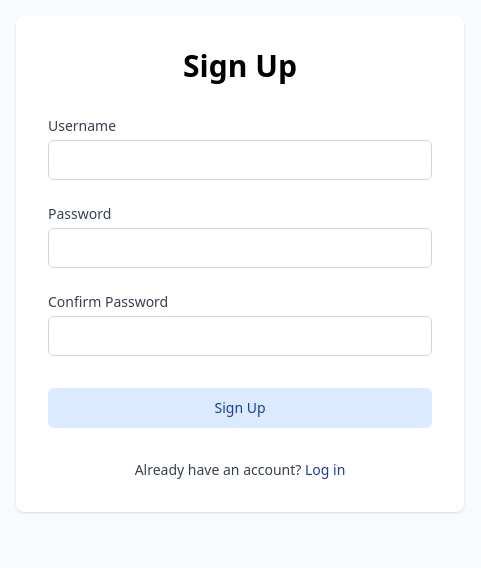
Test case: Signup Component › shows error when passwords do not match
In the field labelled "Username": (240, 160) [48,140,432,180], type "newuser"
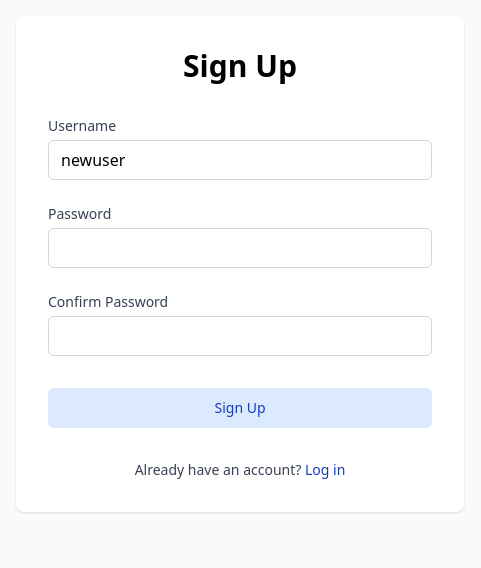
In the password field labelled "Password": (240, 248) [48,228,432,268], type "password123"
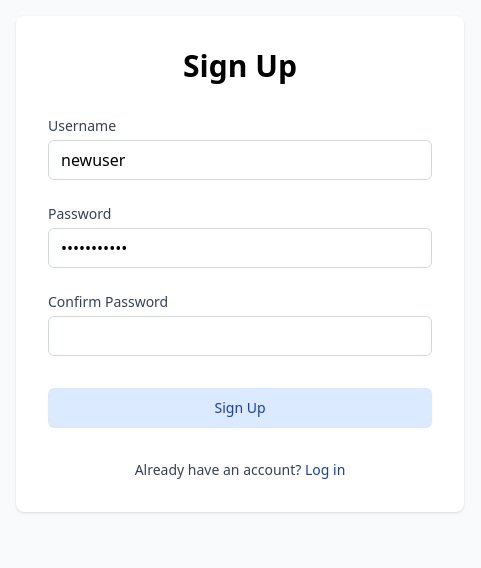
In the password field labelled "Confirm Password": (240, 336) [48,316,432,356], type "password456"
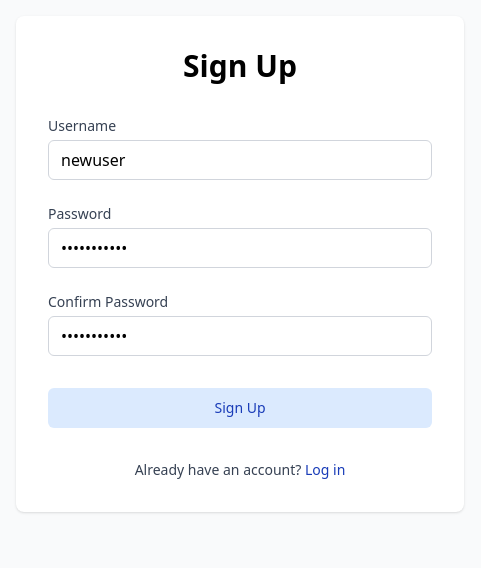
Click the button "Sign Up": (240, 408) [48,388,432,428]
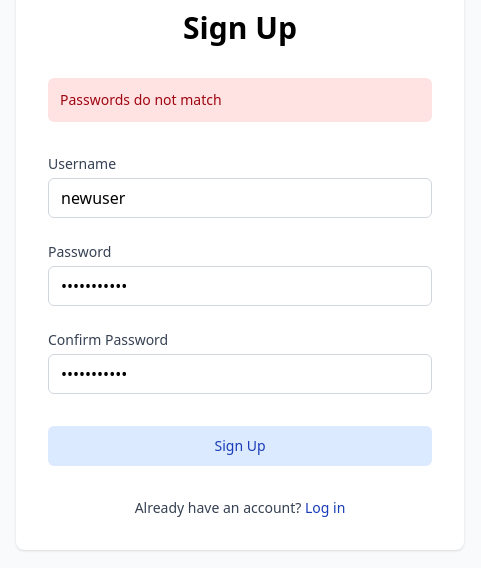
expect the text "Passwords do not match" is shown: met, box [48,78,432,122]
